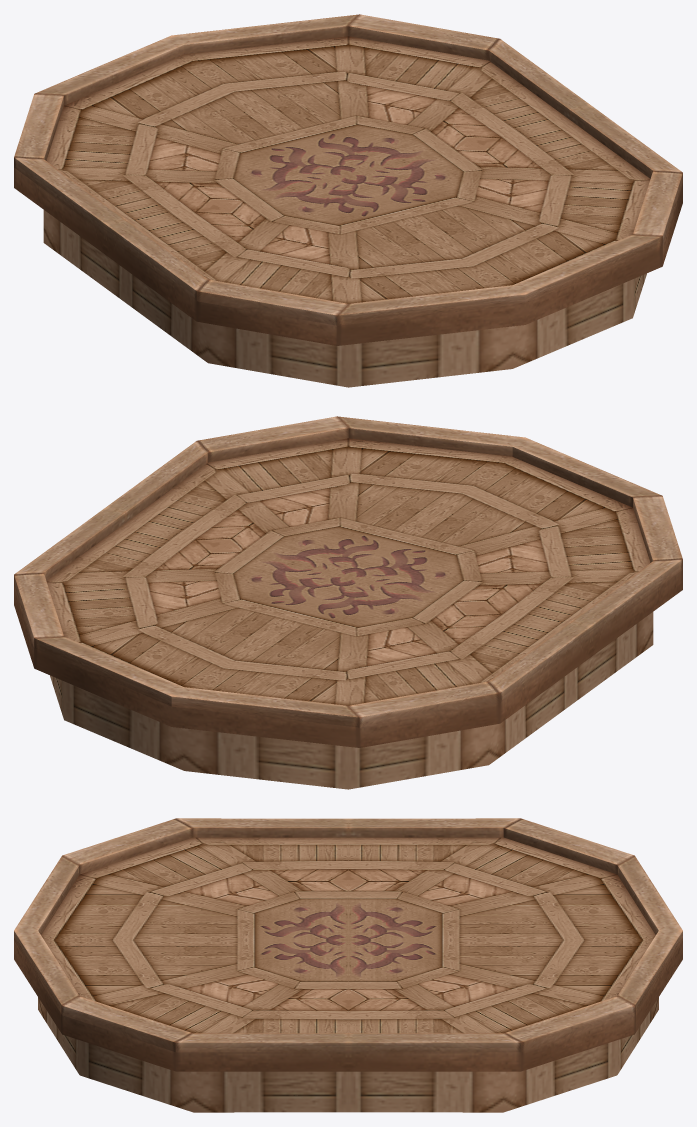
The model's file is FB_Env_Battle_Qcl_Dibiao.FBX.
3 renders of one model, top to bottom at view 1: azimuth 30°, elevation 25°; view 2: azimuth 150°, elevation 25°; view 3: azimuth 270°, elevation 25°, orthographic. The views are drawn at different scales.
Parts seen in each view (by area): view 1: Cylinder01; view 2: Cylinder01; view 3: Cylinder01.
Part boxes in pixels (x1=…): Cylinder01: x1=14, y1=14, x2=682, y2=387; Cylinder01: x1=14, y1=416, x2=682, y2=789; Cylinder01: x1=14, y1=818, x2=682, y2=1112.
Bounding box in the file's own units: 20.51 × 3.38 × 25.86.
